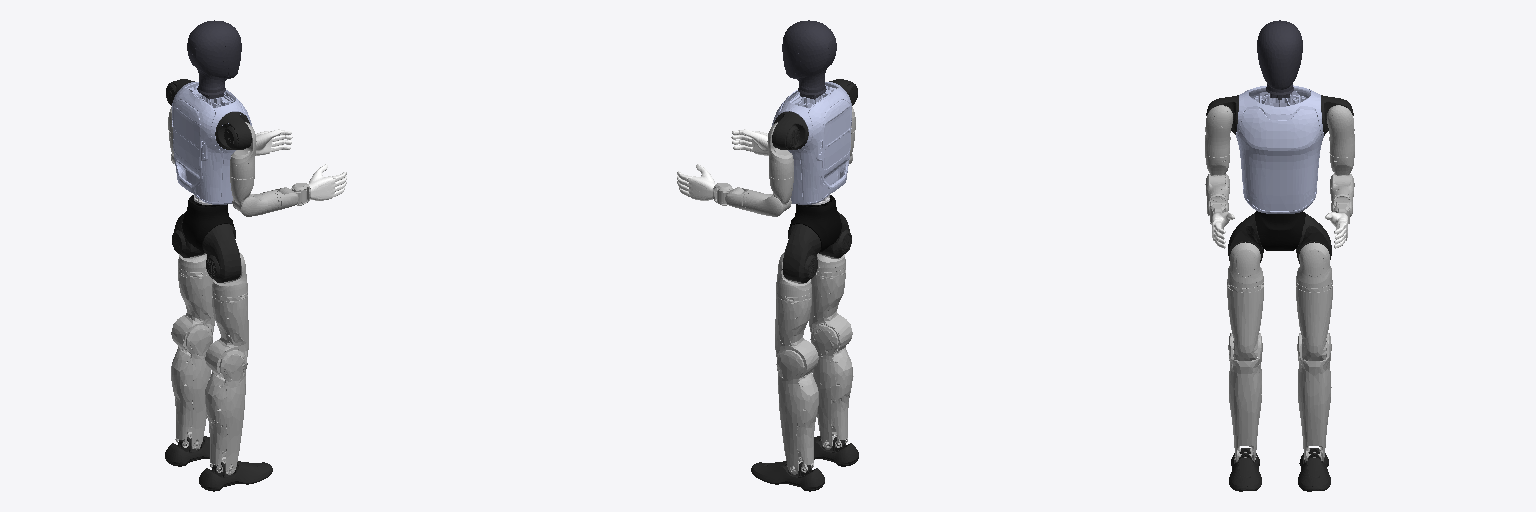
--- Render facts (derived) ---
The picture shows the robot from 3 angles, left to right: view 1: azimuth 30°, elevation 25°; view 2: azimuth 150°, elevation 25°; view 3: azimuth 270°, elevation 25°; orthographic projection.
Robot: agibot_a3 — 35 links, 34 joints (29 revolute, 5 fixed); root link pelvis_link; default pose: every joint at zero.
Visible links, largest first — view 1: torso_Link, right_knee_Link, left_knee_Link, head_Link, right_hip_yaw_Link, left_hip_yaw_Link, right_hip_pitch_Link, pelvis_link, right_ankle_roll_Link, right_shoulder_pitch_Link, right_hand_palm_Link, left_ankle_roll_Link (+5 smaller); view 2: torso_Link, left_knee_Link, right_knee_Link, head_Link, left_hip_yaw_Link, right_hip_yaw_Link, left_hip_pitch_Link, pelvis_link, left_ankle_roll_Link, left_shoulder_pitch_Link, left_hand_palm_Link, right_ankle_roll_Link (+5 smaller); view 3: torso_Link, right_knee_Link, left_knee_Link, head_Link, left_hip_yaw_Link, right_hip_yaw_Link, pelvis_link, left_hip_roll_Link, right_hip_roll_Link, left_shoulder_roll_Link, right_shoulder_roll_Link, left_ankle_roll_Link (+3 smaller).
Link boxes in pixels (x1,y1,x2,y2): torso_Link: [172, 82, 251, 204]; right_knee_Link: [205, 345, 247, 474]; left_knee_Link: [171, 315, 212, 449]; head_Link: [187, 20, 241, 99]; right_hip_yaw_Link: [205, 291, 248, 377]; left_hip_yaw_Link: [171, 266, 214, 352]; right_hip_pitch_Link: [202, 224, 240, 282]; pelvis_link: [182, 195, 234, 252]; right_ankle_roll_Link: [199, 461, 272, 491]; right_shoulder_pitch_Link: [215, 112, 251, 149]; right_hand_palm_Link: [308, 164, 346, 200]; left_ankle_roll_Link: [165, 436, 209, 466]; torso_Link: [772, 82, 851, 204]; left_knee_Link: [776, 346, 818, 474]; right_knee_Link: [810, 319, 853, 449]; head_Link: [782, 20, 836, 99]; left_hip_yaw_Link: [775, 291, 818, 377]; right_hip_yaw_Link: [809, 266, 852, 353]; left_hip_pitch_Link: [782, 224, 820, 282]; pelvis_link: [789, 195, 841, 252]; left_ankle_roll_Link: [751, 461, 824, 491]; left_shoulder_pitch_Link: [772, 111, 808, 149]; left_hand_palm_Link: [677, 164, 715, 200]; right_ankle_roll_Link: [814, 436, 858, 466]; torso_Link: [1236, 85, 1323, 213]; right_knee_Link: [1228, 333, 1262, 461]; left_knee_Link: [1297, 333, 1331, 461]; head_Link: [1257, 20, 1302, 99]; left_hip_yaw_Link: [1296, 281, 1332, 360]; right_hip_yaw_Link: [1227, 281, 1263, 360]; pelvis_link: [1255, 211, 1304, 250]; left_hip_roll_Link: [1296, 242, 1332, 287]; right_hip_roll_Link: [1227, 242, 1263, 287]; left_shoulder_roll_Link: [1327, 105, 1354, 157]; right_shoulder_roll_Link: [1205, 105, 1232, 157]; left_ankle_roll_Link: [1298, 448, 1330, 491].
Bounding box of the posed robot: 0.5534 × 0.526 × 1.74 m (x, y, z).
Meshes: 35 distinct files referenced, 35 mesh visuals loaded (35 binary STL).

URDF robot description (agibot_a3):
<!-- <?xml version='1.0' encoding='utf-8'?> -->
<robot name="agibot_a3">
  <!-- <link name="world_link" /> -->
  <link name="pelvis_link">
    <inertial>
      <origin xyz="-0.00173323 3.616e-05 -0.12605772" rpy="0 0 0" />
      <mass value="4.99797007" />
      <inertia ixx="0.02368329" ixy="-6.45e-06" ixz="-0.00011432" iyy="0.01789291" iyz="2.381e-05" izz="0.0147862" />
    </inertial>
    <visual>
      <origin xyz="0 0 0" rpy="0 0 0" />
      <geometry>
        <mesh filename="../meshes/pelvis_link.STL" />
      </geometry>
      <material name="">
        <color rgba="0.101960784313725 0.101960784313725 0.101960784313725 1" />
      </material>
    </visual>
    <collision name="pelvis_collision">
      <origin xyz="-0.004 0 -0.15" rpy="1.5707963 0 0" />
      <geometry>
        <cylinder length="0.1" radius="0.076"/>
      </geometry>
    </collision>
  </link>

  <!-- <joint name="floating_joint" type="floating">
    <origin xyz="0 0 0" rpy="0 0 0" />
    <parent link="world_link" />
    <child link="pelvis_link" />
    <axis xyz="0.0 0.0 1.0" />
    <limit lower="-2.6179938779914944" upper="2.6179938779914944" effort="220" velocity="12.042771838760874" />
  </joint> -->

  <link name="waist_yaw_Link">
    <inertial>
      <origin xyz="-0.00087176 -0.00013308 -0.01957646" rpy="0 0 0" />
      <mass value="0.26977933" />
      <inertia ixx="0.00017946" ixy="-3.2e-07" ixz="2.614e-05" iyy="0.00028724" iyz="-4.5e-07" izz="0.00037467" />
    </inertial>
    <visual>
      <origin xyz="0 0 0" rpy="0 0 0" />
      <geometry>
        <mesh filename="../meshes/waist_yaw_Link.STL" />
      </geometry>
      <material name="">
        <color rgba="0.8902 0.8902 0.91373 1" />
      </material>
    </visual>
  </link>
  <joint name="waist_yaw_joint" type="revolute">
    <origin xyz="0 0 0" rpy="0 0 0" />
    <parent link="pelvis_link" />
    <child link="waist_yaw_Link" />
    <axis xyz="0.0 0.0 1.0" />
    <limit lower="-2.6179938779914944" upper="2.6179938779914944" effort="220" velocity="12.042771838760874" />
  </joint>
  <link name="waist_pitch_Link">
    <inertial>
      <origin xyz="0 0 -0.00250026" rpy="0 0 0" />
      <mass value="0.08837294" />
      <inertia ixx="1.401e-05" ixy="0" ixz="0" iyy="1.401e-05" iyz="0" izz="2.292e-05" />
    </inertial>
    <visual>
      <origin xyz="0 0 0" rpy="0 0 0" />
      <geometry>
        <mesh filename="../meshes/waist_roll_Link.STL" />
      </geometry>
      <material name="">
        <color rgba="1 1 1 1" />
      </material>
    </visual>
  </link>
  <joint name="waist_pitch_joint" type="revolute">
    <origin xyz="-0.02 0 0.00500000000000667" rpy="0 0 0"/>
    <parent link="waist_pitch_Link" />
    <child link="torso_Link" />
    <axis xyz="0.0 1.0 0.0" />
    <limit lower="-0.3490658503988659" upper="0.3490658503988659" effort="118" velocity="9.24785" />
  </joint>
  <link name="torso_Link">
    <inertial>
      <origin xyz="0.01475672 -0.00109432 0.19140713" rpy="0 0 0" />
      <mass value="17.50315175" />
      <inertia ixx="0.25409921" ixy="-9.693e-05" ixz="0.00462801" iyy="0.20361401" iyz="-0.00011528" izz="0.13805245" />
    </inertial>
    <visual>
      <origin xyz="0 0 0" rpy="0 0 0" />
      <geometry>
        <mesh filename="../meshes/torso_Link.STL" />
      </geometry>
      <material name="">
        <color rgba="0.792156862745098 0.819607843137255 0.933333333333333 1" />
      </material>
    </visual>
    <collision name="torso_collision">
      <origin xyz="0 0 0" rpy="0 0 0" />
      <geometry>
        <mesh filename="../meshes/torso_Link.STL" />
      </geometry>
    </collision>
  </link>
  <joint name="waist_roll_joint" type="revolute">
    <origin xyz="0 0 0" rpy="0 0 0"/>
    <parent link="waist_yaw_Link" />
    <child link="waist_pitch_Link" />
    <axis xyz="1.0 0.0 0.0" />
    <limit lower="-0.4886921905584123" upper="0.41887902047863906" effort="46" velocity="22.7" />
  </joint>
  <link name="head_Link">
    <inertial>
      <origin xyz="0.02448284 0.00023542 0.22590791" rpy="0 0 0" />
      <mass value="1.49705194" />
      <inertia ixx="0.01342539" ixy="7.17e-06" ixz="-0.00024391" iyy="0.01456074" iyz="9.64e-06" izz="0.0067834" />
    </inertial>
    <visual>
      <origin xyz="0 0 0" rpy="0 0 0" />
      <geometry>
        <mesh filename="../meshes/head_Link.STL" />
      </geometry>
      <material name="">
        <color rgba="0.27843137254902 0.27843137254902 0.317647058823529 1" />
      </material>
    </visual>
    <collision name="head_collision">
      <origin xyz="0.01 0 0.26" rpy="0 0 0" />
      <geometry>
        <sphere radius="0.09"/>
      </geometry>
    </collision>
  </link>
  <joint name="head_joint" type="fixed" dont_collapse="true">
    <origin xyz="0.0302999999999533 0 0.288960095036924" rpy="0 0 0" />
    <parent link="torso_Link" />
    <child link="head_Link" />
    <axis xyz="0.0 0.0 1.0" />
    <limit lower="-0.7853981633974483" upper="0.7853981633974483" effort="6" velocity="12.775810124598491" />
  </joint>
  <link name="imu_in_torso_Link">
    <inertial>
      <origin xyz="0.00319251 0.01088 0.11325846" rpy="0 0 0" />
      <mass value="0.02" />
      <inertia ixx="2.86e-06" ixy="0" ixz="0" iyy="2.78e-06" iyz="0" izz="5.27e-06" />
    </inertial>
    <visual>
      <origin xyz="0 0 0" rpy="0 0 0" />
      <geometry>
        <mesh filename="../meshes/imu_in_torso_Link.STL" />
      </geometry>
      <material name="">
        <color rgba="0.27843137254902 0.27843137254902 0.317647058823529 1" />
      </material>
    </visual>
  </link>
  <joint name="imu_in_torso_joint" type="fixed">
    <origin xyz="0 0 0.111849999999993" rpy="0 0 0" />
    <parent link="torso_Link" />
    <child link="imu_in_torso_Link" />
    <axis xyz="0.0 0.0 1.0" />
    <limit lower="-0.7853981633974483" upper="0.7853981633974483" effort="6" velocity="12.775810124598491" />  <limit /></joint>
  <link name="left_shoulder_pitch_Link">
    <inertial>
      <origin xyz="-0.00777149 0.08036095 -9.251e-05" rpy="0 0 0" />
      <mass value="0.92922441" />
      <inertia ixx="0.00104389" ixy="1.652e-05" ixz="-9.4e-06" iyy="0.00083136" iyz="9.53e-06" izz="0.00088847" />
    </inertial>
    <visual>
      <origin xyz="0 0 0" rpy="0 0 0" />
      <geometry>
        <mesh filename="../meshes/left_shoulder_pitch_Link.STL" />
      </geometry>
      <material name="dark">
        <color rgba="0.2 0.2 0.2 1" />
      </material>
    </visual>
  </link>
  <joint name="left_shoulder_pitch_joint" type="revolute">
    <origin xyz="0.0302999999999998 0.12 0.281523558637218" rpy="0.0872664625997163 0 0" />
    <parent link="torso_Link" />
    <child link="left_shoulder_pitch_Link" />
    <axis xyz="0.0 1.0 0.0" />
    <limit lower="-2.8797932657906435" upper="2.8797932657906435" effort="60" velocity="13.613568165555769" />
  </joint>
  <link name="left_shoulder_roll_Link">
    <inertial>
      <origin xyz="0.00639561 0.01056539 -0.09364621" rpy="0 0 0" />
      <mass value="0.87071739" />
      <inertia ixx="0.0021491" ixy="3.802e-05" ixz="-0.00042801" iyy="0.00218698" iyz="0.00013395" izz="0.00075109" />
    </inertial>
    <visual>
      <origin xyz="0 0 0" rpy="0 0 0" />
      <geometry>
        <mesh filename="../meshes/left_shoulder_roll_Link.STL" />
      </geometry>
      <material name="">
        <color rgba="0.752941176470588 0.752941176470588 0.752941176470588 1" />
      </material>
    </visual>
    <collision name="left_shoulder_roll_collision">
      <origin xyz="0 0 0" rpy="0 0 0" />
      <geometry>
        <sphere radius="0.053" />
      </geometry>
    </collision>
  </link>
  <joint name="left_shoulder_roll_joint" type="revolute">
    <origin xyz="0 0.0853246861912147 0" rpy="-0.0872664625997163 0 0" />
    <parent link="left_shoulder_pitch_Link" />
    <child link="left_shoulder_roll_Link" />
    <axis xyz="1.0 0.0 0.0" />
    <limit lower="-0.08726646259971647" upper="2.6179938779914944" effort="60" velocity="13.613568165555769" />
  </joint>
  <link name="left_shoulder_yaw_Link">
    <inertial>
      <origin xyz="0.01013349 -0.00110861 -0.09295646" rpy="0 0 0" />
      <mass value="0.77476276" />
      <inertia ixx="0.00165265" ixy="7.39e-06" ixz="0.00020168" iyy="0.00169755" iyz="-4.054e-05" izz="0.00051061" />
    </inertial>
    <visual>
      <origin xyz="0 0 0" rpy="0 0 0" />
      <geometry>
        <mesh filename="../meshes/left_shoulder_yaw_Link.STL" />
      </geometry>
      <material name="">
        <color rgba="0.752941176470588 0.752941176470588 0.752941176470588 1" />
      </material>
    </visual>
    <collision name="left_shoulder_yaw_collision1">
      <origin xyz="0.001 0 0.025" rpy="0 0 0" />
      <geometry>
        <cylinder radius="0.045" length="0.1" />
      </geometry>
    </collision>
    <collision name="left_shoulder_yaw_collision2">
      <origin xyz="-0.005 0 -0.055" rpy="0 0.23 0" />
      <geometry>
        <cylinder radius="0.03" length="0.03" />
      </geometry>
    </collision>
  </link>
  <joint name="left_shoulder_yaw_joint" type="revolute">
    <origin xyz="0 0.0120000000000015 -0.147999999999998" rpy="0 0 0" />
    <parent link="left_shoulder_roll_Link" />
    <child link="left_shoulder_yaw_Link" />
    <axis xyz="0.0 0.0 1.0" />
    <limit lower="-2.792526803190927" upper="2.792526803190927" effort="24" velocity="15.707963267948966" />
  </joint>
  <link name="left_elbow_Link">
    <inertial>
      <origin xyz="0.06614615 -0.00160836 -0.01356038" rpy="0 0 0" />
      <mass value="0.77985417" />
      <inertia ixx="0.00055443" ixy="-7.806e-05" ixz="8.248e-05" iyy="0.00111366" iyz="1.566e-05" izz="0.00115276" />
    </inertial>
    <visual>
      <origin xyz="0 0 0" rpy="0 0 0" />
      <geometry>
        <mesh filename="../meshes/left_elbow_Link.STL" />
      </geometry>
      <material name="">
        <color rgba="0.752941176470588 0.752941176470588 0.752941176470588 1" />
      </material>
    </visual>
    <collision name="left_elbow_collision1">
      <origin xyz="0.12 0 -0.013" rpy="0 1.5707963 0" />
      <geometry>
        <cylinder radius="0.034" length="0.14" />
      </geometry>
    </collision>
    <collision name="left_elbow_collision2">
      <origin xyz="0 0 -0" rpy="0 0 0" />
      <geometry>
        <sphere radius="0.04" />
      </geometry>
    </collision>
  </link>
  <joint name="left_elbow_joint" type="revolute">
    <origin xyz="0.015 0 -0.117000000000001" rpy="0 0 0" />
    <parent link="left_shoulder_yaw_Link" />
    <child link="left_elbow_Link" />
    <axis xyz="0.0 1.0 0.0" />
    <limit lower="-1.0471975511965976" upper="2.0943951023931953" effort="24" velocity="15.707963267948966" />
  </joint>
  <link name="left_wrist_roll_Link">
    <inertial>
      <origin xyz="0.02084296 -0.00070259 -4.661e-05" rpy="0 0 0" />
      <mass value="0.1907593" />
      <inertia ixx="0.00013536" ixy="5.68e-06" ixz="3e-08" iyy="0.00013008" iyz="7e-08" izz="0.00016782" />
    </inertial>
    <visual>
      <origin xyz="0 0 0" rpy="0 0 0" />
      <geometry>
        <mesh filename="../meshes/left_wrist_roll_Link.STL" />
      </geometry>
      <material name="">
        <color rgba="0.752941176470588 0.752941176470588 0.752941176470588 1" />
      </material>
    </visual>
    <!-- <collision>
      <origin xyz="0 0 0" rpy="0 0 0" />
      <geometry>
        <mesh filename="../meshes/left_wrist_roll_Link.STL" />
      </geometry>
    </collision> -->
  </link>
  <joint name="left_wrist_roll_joint" type="revolute">
    <origin xyz="0.113 0 -0.0150000000000012" rpy="0 0 0" />
    <parent link="left_elbow_Link" />
    <child link="left_wrist_roll_Link" />
    <axis xyz="1.0 0.0 0.0" />
    <limit lower="-2.792526803190927" upper="2.792526803190927" effort="24" velocity="15.707963267948966" />
  </joint>
  <link name="left_wrist_pitch_Link">
    <inertial>
      <origin xyz="0.02303405 -0.00200561 -0.00197433" rpy="0 0 0" />
      <mass value="0.56560861" />
      <inertia ixx="0.00021864" ixy="-2.582e-05" ixz="2.578e-05" iyy="0.0004977" iyz="1.31e-06" izz="0.0004978" />
    </inertial>
    <visual>
      <origin xyz="0 0 0" rpy="0 0 0" />
      <geometry>
        <mesh filename="../meshes/left_wrist_pitch_Link.STL" />
      </geometry>
      <material name="">
        <color rgba="0.752941176470588 0.752941176470588 0.752941176470588 1" />
      </material>
    </visual>
    <!-- <collision>
      <origin xyz="0 0 0" rpy="0 0 0" />
      <geometry>
        <mesh filename="../meshes/left_wrist_pitch_Link.STL" />
      </geometry>
    </collision> -->
  </link>
  <joint name="left_wrist_pitch_joint" type="revolute">
    <origin xyz="0.0590000000000296 0 0" rpy="0 0 0" />
    <parent link="left_wrist_roll_Link" />
    <child link="left_wrist_pitch_Link" />
    <axis xyz="0.0 1.0 0.0" />
    <limit lower="-1.6231562043547265" upper="1.6231562043547265" effort="6" velocity="12.775810124598491" />
  </joint>
  <link name="left_wrist_yaw_Link">
    <inertial>
      <origin xyz="0.01812078 2.446e-05 -0.00266043" rpy="0 0 0" />
      <mass value="0.06691955" />
      <inertia ixx="5.167e-05" ixy="0" ixz="-2.41e-06" iyy="6.941e-05" iyz="0" izz="3.413e-05" />
    </inertial>
    <visual>
      <origin xyz="0 0 0" rpy="0 0 0" />
      <geometry>
        <mesh filename="../meshes/left_wrist_yaw_Link.STL" />
      </geometry>
      <material name="">
        <color rgba="0.752941176470588 0.752941176470588 0.752941176470588 1" />
      </material>
    </visual>
    <!-- <collision>
      <origin xyz="0 0 0" rpy="0 0 0" />
      <geometry>
        <mesh filename="../meshes/left_wrist_yaw_Link.STL" />
      </geometry>
    </collision> -->
  </link>
  <joint name="left_wrist_yaw_joint" type="revolute">
    <origin xyz="0.0459999999999999 0 0" rpy="0 0 0" />
    <parent link="left_wrist_pitch_Link" />
    <child link="left_wrist_yaw_Link" />
    <axis xyz="0.0 0.0 1.0" />
    <limit lower="-1.6231562043547265" upper="1.6231562043547265" effort="6" velocity="12.775810124598491" />
  </joint>
  <link name="left_hand_palm_Link">
    <inertial>
      <origin xyz="0.10496836 0.00576985 0.00480639" rpy="0 0 0" />
      <mass value="0.2" />
      <inertia ixx="0.00016786" ixy="-5.04e-06" ixz="6.16e-06" iyy="0.00038484" iyz="-3.343e-05" izz="0.00031994" />
    </inertial>
    <visual>
      <origin xyz="0 0 0" rpy="0 0 0" />
      <geometry>
        <mesh filename="../meshes/left_hand_palm_Link.STL" />
      </geometry>
      <material name="">
        <color rgba="1 1 1 1" />
      </material>
    </visual>
    <collision>
      <origin xyz="0 0 0" rpy="0 0 0" />
      <geometry>
        <mesh filename="../meshes/left_hand_palm_Link.STL" />
      </geometry>
    </collision>
  </link>
  <joint name="left_hand_palm_joint" type="fixed">
    <origin xyz="0 0 0" rpy="0 0 0" />
    <parent link="left_wrist_yaw_Link" />
    <child link="left_hand_palm_Link" />
    <axis xyz="1 0 0" />
    <limit lower="-1.6231562043547265" upper="1.6231562043547265" effort="6" velocity="12.775810124598491" />
  <limit /></joint>
  <link name="right_shoulder_pitch_Link">
    <inertial>
      <origin xyz="-0.00777227 -0.08063532 -9.188e-05" rpy="0 0 0" />
      <mass value="0.92920627" />
      <inertia ixx="0.00104629" ixy="-2.342e-05" ixz="-9.44e-06" iyy="0.00083127" iyz="-3.44e-06" izz="0.00089086" />
    </inertial>
    <visual>
      <origin xyz="0 0 0" rpy="0 0 0" />
      <geometry>
        <mesh filename="../meshes/right_shoulder_pitch_Link.STL" />
      </geometry>
      <material name="dark">
        <color rgba="0.2 0.2 0.2 1" />
      </material>
    </visual>
  </link>
  <joint name="right_shoulder_pitch_joint" type="revolute">
    <origin xyz="0.0303000000000002 -0.12 0.281523558637223" rpy="-0.0872664625997168 0 0" />
    <parent link="torso_Link" />
    <child link="right_shoulder_pitch_Link" />
    <axis xyz="0.0 1.0 0.0" />
    <limit lower="-2.87979326579064" upper="2.8797932657906435" effort="60" velocity="13.613568165555769" />
  </joint>
  <link name="right_shoulder_roll_Link">
    <inertial>
      <origin xyz="0.00644119 -0.01052597 -0.09364478" rpy="0 0 0" />
      <mass value="0.870733" />
      <inertia ixx="0.0021498" ixy="-3.786e-05" ixz="-0.00042832" iyy="0.00218593" iyz="-0.00013419" izz="0.00075047" />
    </inertial>
    <visual>
      <origin xyz="0 0 0" rpy="0 0 0" />
      <geometry>
        <mesh filename="../meshes/right_shoulder_roll_Link.STL" />
      </geometry>
      <material name="">
        <color rgba="0.752941176470588 0.752941176470588 0.752941176470588 1" />
      </material>
    </visual>
    <collision name="right_shoulder_roll_collision">
      <origin xyz="0 0 0" rpy="0 0 0" />
      <geometry>
        <sphere radius="0.053" />
      </geometry>
    </collision>
  </link>
  <joint name="right_shoulder_roll_joint" type="revolute">
    <origin xyz="0 -0.0853246861911568 0" rpy="0.0872664625997168 0 0" />
    <parent link="right_shoulder_pitch_Link" />
    <child link="right_shoulder_roll_Link" />
    <axis xyz="1.0 0.0 0.0" />
    <limit lower="-2.6179938779914944" upper="0.08726646259971647" effort="60" velocity="13.613568165555769" />
  </joint>
  <link name="right_shoulder_yaw_Link">
    <inertial>
      <origin xyz="0.01012484 0.00110631 -0.09390694" rpy="0 0 0" />
      <mass value="0.77476105" />
      <inertia ixx="0.00165174" ixy="-8.01e-06" ixz="0.00020193" iyy="0.00169541" iyz="4.139e-05" izz="0.00050953" />
    </inertial>
    <visual>
      <origin xyz="0 0 0" rpy="0 0 0" />
      <geometry>
        <mesh filename="../meshes/right_shoulder_yaw_Link.STL" />
      </geometry>
      <material name="">
        <color rgba="0.752941176470588 0.752941176470588 0.752941176470588 1" />
      </material>
    </visual>
    <collision name="right_shoulder_yaw_collision1">
      <origin xyz="0.001 0 0.025" rpy="0 0 0" />
      <geometry>
        <cylinder radius="0.045" length="0.1" />
      </geometry>
    </collision>
    <collision name="right_shoulder_yaw_collision2">
      <origin xyz="-0.005 0 -0.055" rpy="0 0.23 0" />
      <geometry>
        <cylinder radius="0.03" length="0.03" />
      </geometry>
    </collision>
  </link>
  <joint name="right_shoulder_yaw_joint" type="revolute">
    <origin xyz="0 -0.0119984599105831 -0.147000134740367" rpy="0 0 0" />
    <parent link="right_shoulder_roll_Link" />
    <child link="right_shoulder_yaw_Link" />
    <axis xyz="0.0 0.0 1.0" />
    <limit lower="-2.792526803190927" upper="2.792526803190927" effort="24" velocity="15.707963267948966" />
  </joint>
  <link name="right_elbow_Link">
    <inertial>
      <origin xyz="0.06612754 0.00152157 -0.01346557" rpy="0 0 0" />
      <mass value="0.78092791" />
      <inertia ixx="0.00055432" ixy="7.733e-05" ixz="8.348e-05" iyy="0.00111331" iyz="-1.583e-05" izz="0.00115344" />
    </inertial>
    <visual>
      <origin xyz="0 0 0" rpy="0 0 0" />
      <geometry>
        <mesh filename="../meshes/right_elbow_Link.STL" />
      </geometry>
      <material name="">
        <color rgba="0.752941176470588 0.752941176470588 0.752941176470588 1" />
      </material>
    </visual>
    <collision name="right_elbow_collision1">
      <origin xyz="0.12 0 -0.013" rpy="0 1.5707963 0" />
      <geometry>
        <cylinder radius="0.034" length="0.14" />
      </geometry>
    </collision>
    <collision name="right_elbow_collision2">
      <origin xyz="0 0 -0" rpy="0 0 0" />
      <geometry>
        <sphere radius="0.04" />
      </geometry>
    </collision>
  </link>
  <joint name="right_elbow_joint" type="revolute">
    <origin xyz="0.0149999999999994 0 -0.118" rpy="0 0 0" />
    <parent link="right_shoulder_yaw_Link" />
    <child link="right_elbow_Link" />
    <axis xyz="0.0 1.0 0.0" />
    <limit lower="-1.0471975511965976" upper="2.0943951023931953" effort="24" velocity="15.707963267948966" />
  </joint>
  <link name="right_wrist_roll_Link">
    <inertial>
      <origin xyz="0.02084296 0.00070259 4.661e-05" rpy="0 0 0" />
      <mass value="0.1907593" />
      <inertia ixx="0.00013536" ixy="-5.68e-06" ixz="-3e-08" iyy="0.00013008" iyz="7e-08" izz="0.00016782" />
    </inertial>
    <visual>
      <origin xyz="0 0 0" rpy="0 0 0" />
      <geometry>
        <mesh filename="../meshes/right_wrist_roll_Link.STL" />
      </geometry>
      <material name="">
        <color rgba="0.752941176470588 0.752941176470588 0.752941176470588 1" />
      </material>
    </visual>
  </link>
  <joint name="right_wrist_roll_joint" type="revolute">
    <origin xyz="0.113000000000002 0 -0.0149999999999992" rpy="0 0 0" />
    <parent link="right_elbow_Link" />
    <child link="right_wrist_roll_Link" />
    <axis xyz="1.0 0.0 0.0" />
    <limit lower="-2.792526803190927" upper="2.792526803190927" effort="24" velocity="15.707963267948966" />
  </joint>
  <link name="right_wrist_pitch_Link">
    <inertial>
      <origin xyz="0.02303405 0.00200561 0.00197433" rpy="0 0 0" />
      <mass value="0.56560861" />
      <inertia ixx="0.00021864" ixy="2.582e-05" ixz="-2.578e-05" iyy="0.0004977" iyz="1.31e-06" izz="0.0004978" />
    </inertial>
    <visual>
      <origin xyz="0 0 0" rpy="0 0 0" />
      <geometry>
        <mesh filename="../meshes/right_wrist_pitch_Link.STL" />
      </geometry>
      <material name="">
        <color rgba="0.752941176470588 0.752941176470588 0.752941176470588 1" />
      </material>
    </visual>
  </link>
  <joint name="right_wrist_pitch_joint" type="revolute">
    <origin xyz="0.0590000000000295 0 0" rpy="0 0 0" />
    <parent link="right_wrist_roll_Link" />
    <child link="right_wrist_pitch_Link" />
    <axis xyz="0.0 1.0 0.0" />
    <limit lower="-1.6231562043547265" upper="1.6231562043547265" effort="6" velocity="12.775810124598491" />
  </joint>
  <link name="right_wrist_yaw_Link">
    <inertial>
      <origin xyz="0.01812078 -2.446e-05 0.00266043" rpy="0 0 0" />
      <mass value="0.06691955" />
      <inertia ixx="5.167e-05" ixy="0" ixz="2.41e-06" iyy="6.941e-05" iyz="0" izz="3.413e-05" />
    </inertial>
    <visual>
      <origin xyz="0 0 0" rpy="0 0 0" />
      <geometry>
        <mesh filename="../meshes/right_wrist_yaw_Link.STL" />
      </geometry>
      <material name="">
        <color rgba="0.752941176470588 0.752941176470588 0.752941176470588 1" />
      </material>
    </visual>
  </link>
  <joint name="right_wrist_yaw_joint" type="revolute">
    <origin xyz="0.0459999999999997 0 0" rpy="0 0 0" />
    <parent link="right_wrist_pitch_Link" />
    <child link="right_wrist_yaw_Link" />
    <axis xyz="0.0 0.0 1.0" />
    <limit lower="-1.6231562043547265" upper="1.6231562043547265" effort="6" velocity="12.775810124598491" />
  </joint>
  <link name="right_hand_palm_Link">
    <inertial>
      <origin xyz="0.10496836 0.00576985 0.00480639" rpy="0 0 0" />
      <mass value="0.2" />
      <inertia ixx="0.00016786" ixy="-5.04e-06" ixz="6.16e-06" iyy="0.00038484" iyz="-3.343e-05" izz="0.00031994" />
    </inertial>
    <visual>
      <origin xyz="0 0 0" rpy="0 0 0" />
      <geometry>
        <mesh filename="../meshes/right_hand_palm_Link.STL" />
      </geometry>
      <material name="">
        <color rgba="1 1 1 1" />
      </material>
    </visual>
    <collision>
      <origin xyz="0 0 0" rpy="0 0 0" />
      <geometry>
        <mesh filename="../meshes/right_hand_palm_Link.STL" />
      </geometry>
    </collision>
  </link>
  <joint name="right_hand_palm_joint" type="fixed">
    <origin xyz="0 0 0" rpy="0 0 0" />
    <parent link="right_wrist_yaw_Link" />
    <child link="right_hand_palm_Link" />
    <axis xyz="1 0 0" />
    <limit lower="-1.6231562043547265" upper="1.6231562043547265" effort="6" velocity="12.775810124598491" />
  <limit /></joint>
  <link name="imu_in_pelvis_Link">
    <inertial>
      <origin xyz="0.00032251 -0.01088 -0.21155846" rpy="0 0 0" />
      <mass value="0.02" />
      <inertia ixx="2.86e-06" ixy="0" ixz="0" iyy="2.78e-06" iyz="0" izz="5.27e-06" />
    </inertial>
    <visual>
      <origin xyz="0 0 0" rpy="0 0 0" />
      <geometry>
        <mesh filename="../meshes/imu_in_pelvis_Link.STL" />
      </geometry>
      <material name="">
        <color rgba="0.27843137254902 0.27843137254902 0.317647058823529 1" />
      </material>
    </visual>
  </link>
  <joint name="imu_in_pelvis_joint" type="fixed">
    <origin xyz="-0.00287000000011174 0 -0.21015" rpy="0 0 0" />
    <parent link="pelvis_link" />
    <child link="imu_in_pelvis_Link" />
    <axis xyz="1 0 0" />
    <limit lower="-1.6231562043547265" upper="1.6231562043547265" effort="6" velocity="12.775810124598491" />
  <limit /></joint>
  <link name="left_hip_pitch_Link">
    <inertial>
      <origin xyz="0.00267871 -0.00243539 -0.05644271" rpy="0 0 0" />
      <mass value="1.77894607" />
      <inertia ixx="0.00367785" ixy="1.574e-05" ixz="-3.485e-05" iyy="0.00294071" iyz="0.0002706" izz="0.00208856" />
    </inertial>
    <visual>
      <origin xyz="0 0 0" rpy="0 0 0" />
      <geometry>
        <mesh filename="../meshes/left_hip_pitch_Link.STL" />
      </geometry>
      <material name="">
        <color rgba="0.2 0.2 0.2 1" />
      </material>
    </visual>
  </link>
  <joint name="left_hip_pitch_joint" type="revolute">
    <origin xyz="0 0.11999999999997 -0.176453903091725" rpy="-0.26179938779914 0 0" />
    <parent link="pelvis_link" />
    <child link="left_hip_pitch_Link" />
    <axis xyz="0.0 1.0 0" />
    <limit lower="-2.6878070480712672" upper="2.9321531433504737" effort="220" velocity="12.042771838760874" />
  </joint>
  <link name="left_hip_roll_Link">
    <inertial>
      <origin xyz="0.01266201 -0.00178224 -0.05347081" rpy="0 0 0" />
      <mass value="0.35206533" />
      <inertia ixx="0.00094143" ixy="-7.69e-06" ixz="-0.00013501" iyy="0.00085131" iyz="-2.063e-05" izz="0.00062843" />
    </inertial>
    <visual>
      <origin xyz="0 0 0" rpy="0 0 0" />
      <geometry>
        <mesh filename="../meshes/left_hip_roll_Link.STL" />
      </geometry>
      <material name="">
        <color rgba="0.752941176470588 0.752941176470588 0.752941176470588 1" />
      </material>
    </visual>
    <collision name="left_hip_collision">
      <origin xyz="-0.02 0 0" rpy="0 0 0" />
      <geometry>
        <sphere radius="0.06" />
      </geometry>
    </collision>
  </link>
  <joint name="left_hip_roll_joint" type="revolute">
    <origin xyz="0.0163025830474185 0.0168284752077701 -0.0628046719532485" rpy="0.26179938779914 0 0" />
    <parent link="left_hip_pitch_Link" />
    <child link="left_hip_roll_Link" />
    <axis xyz="1.0 0.0 0.0" />
    <limit lower="-0.6981317007977318" upper="1.2217304763960306" effort="220" velocity="12.042771838760874" />
  </joint>
  <link name="left_hip_yaw_Link">
    <inertial>
      <origin xyz="-0.00612772 -0.00144301 -0.27526073" rpy="0 0 0" />
      <mass value="4.54364082" />
      <inertia ixx="0.06608668" ixy="-6.66e-05" ixz="-0.00440006" iyy="0.06793671" iyz="-0.00054728" izz="0.00873687" />
    </inertial>
    <visual>
      <origin xyz="0 0 0" rpy="0 0 0" />
      <geometry>
        <mesh filename="../meshes/left_hip_yaw_Link.STL" />
      </geometry>
      <material name="">
        <color rgba="0.752941176470588 0.752941176470588 0.752941176470588 1" />
      </material>
    </visual>
    <collision name="left_thigh_collision1">
      <origin xyz="0.004 0 -0.135" rpy="0 0 0" />
      <geometry>
        <cylinder length="0.14" radius="0.06"/>
      </geometry>
    </collision>
    <collision name="left_thigh_collision2">
      <origin xyz="0.014 0 -0.27" rpy="0 -0.3 0" />
      <geometry>
        <cylinder length="0.08" radius="0.046"/>
      </geometry>
    </collision>
  </link>
  <joint name="left_hip_yaw_joint" type="revolute">
    <origin xyz="0 0 0" rpy="0 0 0" />
    <parent link="left_hip_roll_Link" />
    <child link="left_hip_yaw_Link" />
    <axis xyz="0.0 0.0 1.0" />
    <limit lower="-2.7576202181510405" upper="2.7576202181510405" effort="220" velocity="12.042771838760874" />
  </joint>
  <link name="left_knee_Link">
    <inertial>
      <origin xyz="-0.00317169 -0.00065704 -0.17344448" rpy="0 0 0" />
      <mass value="3.07100639" />
      <inertia ixx="0.03800304" ixy="-5.251e-05" ixz="-0.00141125" iyy="0.03713059" iyz="0.00034426" izz="0.00505054" />
    </inertial>
    <visual>
      <origin xyz="0 0 0" rpy="0 0 0" />
      <geometry>
        <mesh filename="../meshes/left_knee_Link.STL" />
      </geometry>
      <material name="">
        <color rgba="0.752941176470588 0.752941176470588 0.752941176470588 1" />
      </material>
    </visual>
    <collision name="left_shin_collision">
      <origin xyz="0.003 0 -0.2" rpy="0 0.1 0" />
      <geometry>
        <cylinder radius="0.058" length="0.26"/>
      </geometry>
    </collision>
  </link>
  <joint name="left_knee_joint" type="revolute">
    <origin xyz="-0.0163025830480812 0 -0.370000000000686" rpy="0 0 0" />
    <parent link="left_hip_yaw_Link" />
    <child link="left_knee_Link" />
    <axis xyz="0.0 1.0 0.0" />
    <limit lower="-0.12217304763960307" upper="2.443460952792061" effort="320" velocity="14.660765716752367" />
  </joint>
  <link name="left_ankle_pitch_Link">
    <inertial>
      <origin xyz="0 0 -0.00028903" rpy="0 0 0" />
      <mass value="0.1168436" />
      <inertia ixx="2.714e-05" ixy="0" ixz="0" iyy="1.074e-05" iyz="0" izz="3.362e-05" />
    </inertial>
    <visual>
      <origin xyz="0 0 0" rpy="0 0 0" />
      <geometry>
        <mesh filename="../meshes/left_ankle_pitch_Link.STL" />
      </geometry>
      <material name="">
        <color rgba="0.752941176470588 0.752941176470588 0.752941176470588 1" />
      </material>
    </visual>
  </link>
  <joint name="left_ankle_pitch_joint" type="revolute">
    <origin xyz="0 0.000200013598689153 -0.414999999984657" rpy="0 0 0" />
    <parent link="left_knee_Link" />
    <child link="left_ankle_pitch_Link" />
    <axis xyz="0.0 1.0 0.0" />
    <limit lower="-0.9075712110370513" upper="0.5235987755982988" effort="115" velocity="11.05" />
  </joint>
  <link name="left_ankle_roll_Link">
    <inertial>
      <origin xyz="0.01451721 2.44e-06 -0.03760915" rpy="0 0 0" />
      <mass value="0.68665426" />
      <inertia ixx="0.00072078" ixy="-1.2e-07" ixz="0.00028901" iyy="0.00331387" iyz="2e-08" izz="0.00340209" />
    </inertial>
    <visual>
      <origin xyz="0 0 0" rpy="0 0 0" />
      <geometry>
        <mesh filename="../meshes/left_ankle_roll_Link.STL" />
      </geometry>
      <material name="dark">
        <color rgba="0.2 0.2 0.2 1" />
      </material>
    </visual>
    <!-- <collision name="left_foot1_collision">
      <origin rpy="0 0 0" xyz="0.175 0 -0.054"/>
      <geometry>
        <sphere radius="0.002"/>
      </geometry>
    </collision>
    <collision name="left_foot2_collision">
      <origin rpy="0 0 0" xyz="-0.09 0 -0.066"/>
      <geometry>
        <sphere radius="0.002"/>
      </geometry>
    </collision>
    <collision name="left_foot3_collision">
      <origin rpy="0 0 0" xyz="0.135 0.046 -0.063"/>
      <geometry>
        <sphere radius="0.002"/>
      </geometry>
    </collision>
    <collision name="left_foot4_collision">
      <origin rpy="0 0 0" xyz="0.135 -0.046 -0.063"/>
      <geometry>
        <sphere radius="0.002"/>
      </geometry>
    </collision>
    <collision name="left_foot5_collision">
      <origin rpy="0 0 0" xyz="0.065 0.053 -0.066"/>
      <geometry>
        <sphere radius="0.002"/>
      </geometry>
    </collision>
    <collision name="left_foot6_collision">
      <origin rpy="0 0 0" xyz="0.065 -0.053 -0.066"/>
      <geometry>
        <sphere radius="0.002"/>
      </geometry>
    </collision>
    <collision name="left_foot7_collision">
      <origin rpy="0 0 0" xyz="-0.055 0.045 -0.066"/>
      <geometry>
        <sphere radius="0.002"/>
      </geometry>
    </collision>
    <collision name="left_foot8_collision">
      <origin rpy="0 0 0" xyz="-0.055 -0.045 -0.066"/>
      <geometry>
        <sphere radius="0.002"/>
      </geometry>
    </collision>
    <collision name="left_foot9_collision">
      <origin rpy="0 0 0" xyz="0.1 0.053 -0.0655"/>
      <geometry>
        <sphere radius="0.002"/>
      </geometry>
    </collision>
    <collision name="left_foot10_collision">
      <origin rpy="0 0 0" xyz="0.1 -0.053 -0.0655"/>
      <geometry>
        <sphere radius="0.002"/>
      </geometry>
    </collision>
    <collision name="left_foot11_collision">
      <origin rpy="0 0 0" xyz="0.065 0 -0.066"/>
      <geometry>
        <sphere radius="0.002"/>
      </geometry>
    </collision>
    <collision name="left_foot12_collision">
      <origin rpy="0 0 0" xyz="0 -0.026 -0.0637"/>
      <geometry>
        <sphere radius="0.002"/>
      </geometry>
    </collision>
    <collision name="left_foot13_collision">
      <origin rpy="0 0 0" xyz="0 0.026 -0.0637"/>
      <geometry>
        <sphere radius="0.002"/>
      </geometry>
    </collision> -->
    <collision>
      <origin rpy="0 0 0" xyz="0 0 0"/>
      <geometry>
        <mesh filename="../meshes/left_ankle_roll_Link-hull.STL"/>
      </geometry>
    </collision>
  </link>
  <joint name="left_ankle_roll_joint" type="revolute">
    <origin xyz="0 0 0" rpy="0 0 0" />
    <parent link="left_ankle_pitch_Link" />
    <child link="left_ankle_roll_Link" />
    <axis xyz="1.0 0.0 0.0" />
    <limit lower="-0.3490658503988659" upper="0.3490658503988659" effort="54" velocity="20.16" />
  </joint>
  <link name="right_hip_pitch_Link">
    <inertial>
      <origin xyz="0.00268023 0.00240798 -0.05643276" rpy="0 0 0" />
      <mass value="1.77801957" />
      <inertia ixx="0.00367435" ixy="-1.572e-05" ixz="-3.37e-05" iyy="0.00293973" iyz="-0.00027027" izz="0.00208557" />
    </inertial>
    <visual>
      <origin xyz="0 0 0" rpy="0 0 0" />
      <geometry>
        <mesh filename="../meshes/right_hip_pitch_Link.STL" />
      </geometry>
      <material name="">
        <color rgba="0.2 0.2 0.2 1" />
      </material>
    </visual>
  </link>
  <joint name="right_hip_pitch_joint" type="revolute">
    <origin xyz="0 -0.12000000000003 -0.176453903091742" rpy="0.26179938779916 0 0" />
    <parent link="pelvis_link" />
    <child link="right_hip_pitch_Link" />
    <axis xyz="0.0 1 0" />
    <limit lower="-2.6878070480712672" upper="2.9321531433504737" effort="220" velocity="12.042771838760874" />
  </joint>
  <link name="right_hip_roll_Link">
    <inertial>
      <origin xyz="0.01265976 0.0017836 -0.05347127" rpy="0 0 0" />
      <mass value="0.35204362" />
      <inertia ixx="0.00094139" ixy="7.69e-06" ixz="-0.00013494" iyy="0.00085128" iyz="2.062e-05" izz="0.00062838" />
    </inertial>
    <visual>
      <origin xyz="0 0 0" rpy="0 0 0" />
      <geometry>
        <mesh filename="../meshes/right_hip_roll_Link.STL" />
      </geometry>
      <material name="">
        <color rgba="0.752941176470588 0.752941176470588 0.752941176470588 1" />
      </material>
    </visual>
    <collision name="right_hip_collision">
      <origin xyz="-0.02 0 0" rpy="0 0 0" />
      <geometry>
        <sphere radius="0.06" />
      </geometry>
    </collision>
  </link>
  <joint name="right_hip_roll_joint" type="revolute">
    <origin xyz="0.016302583047427 -0.0168284752077021 -0.0628046719532634" rpy="-0.26179938779916 0 0" />
    <parent link="right_hip_pitch_Link" />
    <child link="right_hip_roll_Link" />
    <axis xyz="1.0 0.0 0.0" />
    <limit lower="-1.2217304763960306" upper="0.6981317007977318" effort="220" velocity="12.042771838760874" />
  </joint>
  <link name="right_hip_yaw_Link">
    <inertial>
      <origin xyz="-0.00612676 0.00126124 -0.27538787" rpy="0 0 0" />
      <mass value="4.53939066" />
      <inertia ixx="0.06603026" ixy="6.614e-05" ixz="-0.00436345" iyy="0.06789134" iyz="0.00068332" izz="0.00874954" />
    </inertial>
    <visual>
      <origin xyz="0 0 0" rpy="0 0 0" />
      <geometry>
        <mesh filename="../meshes/right_hip_yaw_Link.STL" />
      </geometry>
      <material name="">
        <color rgba="0.752941176470588 0.752941176470588 0.752941176470588 1" />
      </material>
    </visual>
    <collision name="right_thigh_collision1">
      <origin xyz="0.004 0 -0.135" rpy="0 0 0" />
      <geometry>
        <cylinder length="0.14" radius="0.06"/>
      </geometry>
    </collision>
    <collision name="right_thigh_collision2">
      <origin xyz="0.014 0 -0.27" rpy="0 -0.3 0" />
      <geometry>
        <cylinder length="0.08" radius="0.046"/>
      </geometry>
    </collision>
  </link>
  <joint name="right_hip_yaw_joint" type="revolute">
    <origin xyz="0 0 0" rpy="0 0 0" />
    <parent link="right_hip_roll_Link" />
    <child link="right_hip_yaw_Link" />
    <axis xyz="0.0 0.0 1.0" />
    <limit lower="-2.7576202181510405" upper="2.7576202181510405" effort="220" velocity="12.042771838760874" />
  </joint>
  <link name="right_knee_Link">
    <inertial>
      <origin xyz="-0.00320407 0.00063549 -0.17354311" rpy="0 0 0" />
      <mass value="3.08105802" />
      <inertia ixx="0.03803056" ixy="5.112e-05" ixz="-0.00141506" iyy="0.03714762" iyz="-0.00034039" izz="0.00506399" />
    </inertial>
    <visual>
      <origin xyz="0 0 0" rpy="0 0 0" />
      <geometry>
        <mesh filename="../meshes/right_knee_Link.STL" />
      </geometry>
      <material name="">
        <color rgba="0.752941176470588 0.752941176470588 0.752941176470588 1" />
      </material>
    </visual>
    <collision name="right_shin_collision">
      <origin xyz="0.003 0 -0.2" rpy="0 0.1 0" />
      <geometry>
        <cylinder radius="0.058" length="0.26"/>
      </geometry>
    </collision>
  </link>
  <joint name="right_knee_joint" type="revolute">
    <origin xyz="-0.0163025830480783 0 -0.370000000000683" rpy="0 0 0" />
    <parent link="right_hip_yaw_Link" />
    <child link="right_knee_Link" />
    <axis xyz="0.0 1.0 0.0" />
    <limit lower="-0.12217304763960307" upper="2.443460952792061" effort="320" velocity="14.660765716752367" />
  </joint>
  <link name="right_ankle_pitch_Link">
    <inertial>
      <origin xyz="0 0 -0.00028903" rpy="0 0 0" />
      <mass value="0.1168436" />
      <inertia ixx="2.714e-05" ixy="0" ixz="0" iyy="1.074e-05" iyz="0" izz="3.362e-05" />
    </inertial>
    <visual>
      <origin xyz="0 0 0" rpy="0 0 0" />
      <geometry>
        <mesh filename="../meshes/right_ankle_pitch_Link.STL" />
      </geometry>
      <material name="">
        <color rgba="0.752941176470588 0.752941176470588 0.752941176470588 1" />
      </material>
    </visual>
  </link>
  <joint name="right_ankle_pitch_joint" type="revolute">
    <origin xyz="0 -0.000200013598673193 -0.414999999999995" rpy="0 0 0" />
    <parent link="right_knee_Link" />
    <child link="right_ankle_pitch_Link" />
    <axis xyz="0.0 1.0 0.0" />
    <limit lower="-0.9075712110370513" upper="0.5235987755982988" effort="115" velocity="11.05" />
  </joint>
  <link name="right_ankle_roll_Link">
    <inertial>
      <origin xyz="0.01451721 2.44e-06 -0.03760915" rpy="0 0 0" />
      <mass value="0.68665426" />
      <inertia ixx="0.00072078" ixy="-1.2e-07" ixz="0.00028901" iyy="0.00331387" iyz="2e-08" izz="0.00340209" />
    </inertial>
    <visual>
      <origin xyz="0 0 0" rpy="0 0 0" />
      <geometry>
        <mesh filename="../meshes/right_ankle_roll_Link.STL" />
      </geometry>
      <material name="dark">
        <color rgba="0.2 0.2 0.2 1" />
      </material>
    </visual>
    <!-- <collision name="right_foot1_collision">
      <origin rpy="0 0 0" xyz="0.175 0 -0.054"/>
      <geometry>
        <sphere radius="0.002"/>
      </geometry>
    </collision>
    <collision name="right_foot2_collision">
      <origin rpy="0 0 0" xyz="-0.09 0 -0.066"/>
      <geometry>
        <sphere radius="0.002"/>
      </geometry>
    </collision>
    <collision name="right_foot3_collision">
      <origin rpy="0 0 0" xyz="0.135 0.046 -0.063"/>
      <geometry>
        <sphere radius="0.002"/>
      </geometry>
    </collision>
    <collision name="right_foot4_collision">
      <origin rpy="0 0 0" xyz="0.135 -0.046 -0.063"/>
      <geometry>
        <sphere radius="0.002"/>
      </geometry>
    </collision>
    <collision name="right_foot5_collision">
      <origin rpy="0 0 0" xyz="0.065 0.053 -0.066"/>
      <geometry>
        <sphere radius="0.002"/>
      </geometry>
    </collision>
    <collision name="right_foot6_collision">
      <origin rpy="0 0 0" xyz="0.065 -0.053 -0.066"/>
      <geometry>
        <sphere radius="0.002"/>
      </geometry>
    </collision>
    <collision name="right_foot7_collision">
      <origin rpy="0 0 0" xyz="-0.055 0.045 -0.066"/>
      <geometry>
        <sphere radius="0.002"/>
      </geometry>
    </collision>
    <collision name="right_foot8_collision">
      <origin rpy="0 0 0" xyz="-0.055 -0.045 -0.066"/>
      <geometry>
        <sphere radius="0.002"/>
      </geometry>
    </collision>
    <collision name="right_foot9_collision">
      <origin rpy="0 0 0" xyz="0.1 0.053 -0.0655"/>
      <geometry>
        <sphere radius="0.002"/>
      </geometry>
    </collision>
    <collision name="right_foot10_collision">
      <origin rpy="0 0 0" xyz="0.1 -0.053 -0.0655"/>
      <geometry>
        <sphere radius="0.002"/>
      </geometry>
    </collision>
    <collision name="right_foot11_collision">
      <origin rpy="0 0 0" xyz="0.065 0 -0.066"/>
      <geometry>
        <sphere radius="0.002"/>
      </geometry>
    </collision>
    <collision name="right_foot12_collision">
      <origin rpy="0 0 0" xyz="0 -0.026 -0.0637"/>
      <geometry>
        <sphere radius="0.002"/>
      </geometry>
    </collision>
    <collision name="right_foot13_collision">
      <origin rpy="0 0 0" xyz="0 0.026 -0.0637"/>
      <geometry>
        <sphere radius="0.002"/>
      </geometry>
    </collision> -->
    <collision>
      <origin rpy="0 0 0" xyz="0 0 0"/>
      <geometry>
        <mesh filename="../meshes/right_ankle_roll_Link-hull.STL"/>
      </geometry>
    </collision>
  </link>
  <joint name="right_ankle_roll_joint" type="revolute">
    <origin xyz="0 0 0" rpy="0 0 0" />
    <parent link="right_ankle_pitch_Link" />
    <child link="right_ankle_roll_Link" />
    <axis xyz="1.0 0.0 0.0" />
    <limit lower="-0.3490658503988659" upper="0.3490658503988659" effort="54" velocity="20.16" />
  </joint>
</robot>
